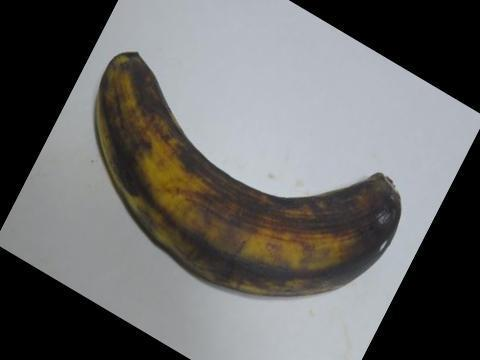overripe: (85, 41, 432, 345)
rotten: (318, 167, 425, 281)
